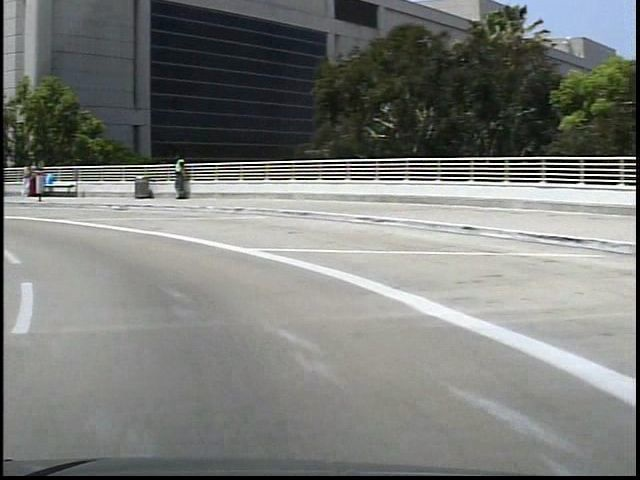person: (165, 151, 186, 204)
